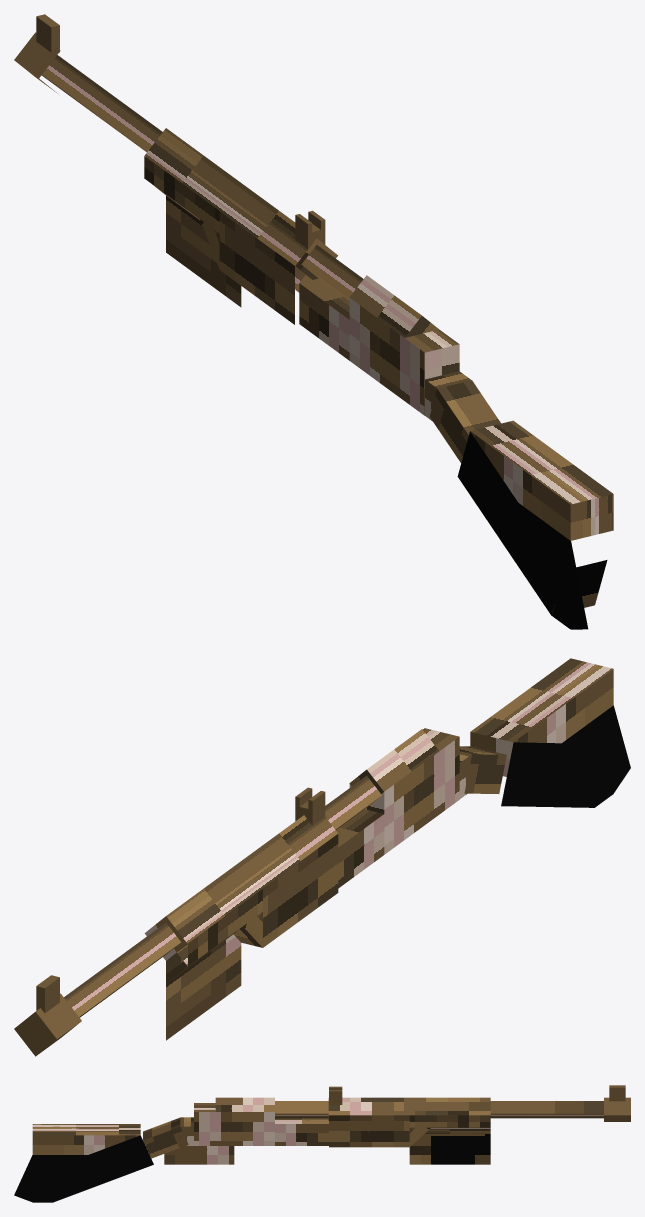
Rendered from jeg_bolt_action_rifle.glb.
3 renders of one model, top to bottom at view 1: azimuth 30°, elevation 25°; view 2: azimuth 150°, elevation 25°; view 3: azimuth 270°, elevation 25°, orthographic. The views are drawn at different scales.
Parts seen in each view (by area): view 1: Gun; view 2: Gun; view 3: Gun.
Boxes of the visible parts, x1,y1,x2,y2 form: Gun: (14, 14, 613, 629); Gun: (14, 658, 630, 1056); Gun: (14, 1085, 630, 1202).
Bounding box in the file's own units: 0.0625 × 0.2821 × 1.43.
Materials: 1 (1 with a texture image).
